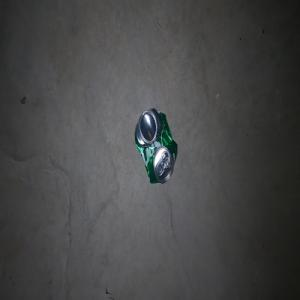SodaCan: (134, 107, 177, 183)
